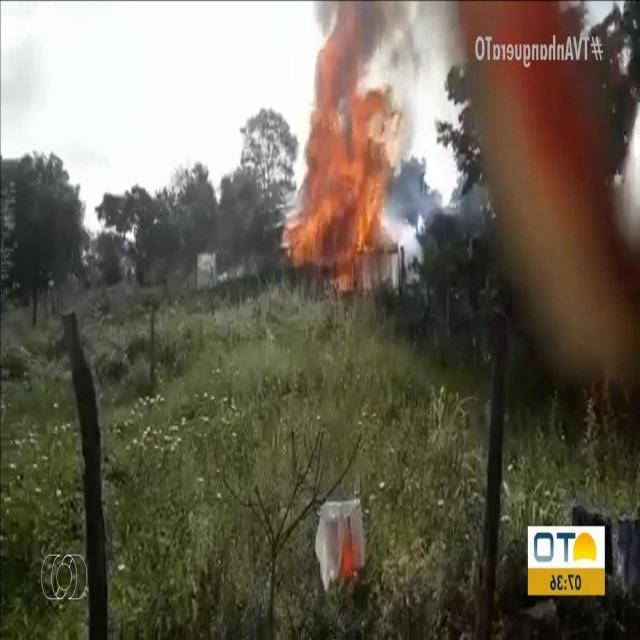fire: (288, 32, 391, 275)
